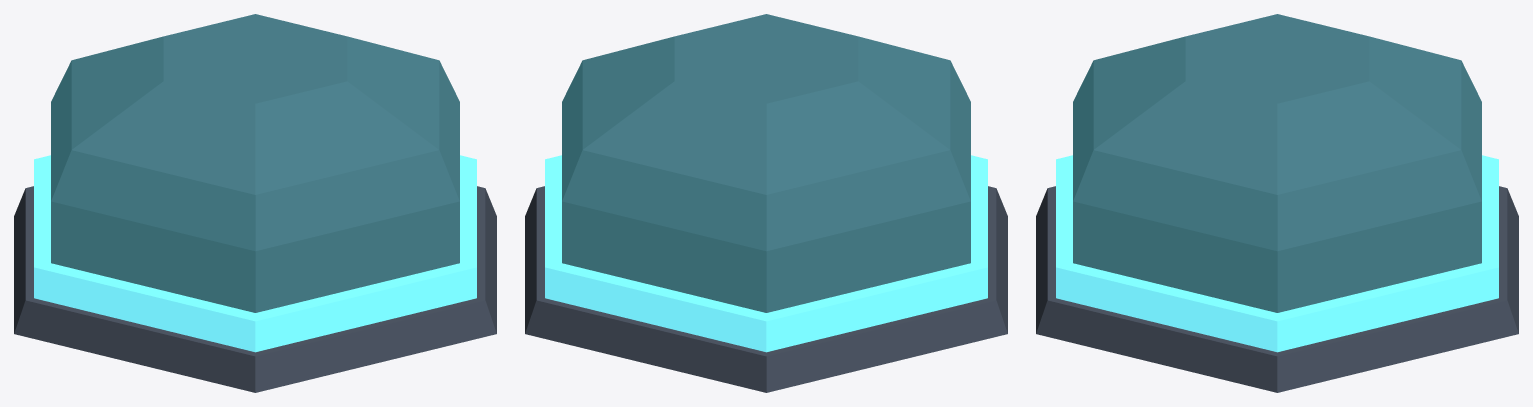
Rendered from hangar_roundGlass.glb.
3 renders of one model, left to right at view 1: azimuth 30°, elevation 25°; view 2: azimuth 150°, elevation 25°; view 3: azimuth 270°, elevation 25°, orthographic.
Parts seen in each view (by area): view 1: hangar_roundGlass; view 2: hangar_roundGlass; view 3: hangar_roundGlass.
Boxes of the visible parts, x1,y1,x2,y2 form: hangar_roundGlass: (14, 14, 496, 392); hangar_roundGlass: (525, 14, 1007, 392); hangar_roundGlass: (1036, 14, 1518, 392).
Size of the model in its own units: 3.27 by 1.4 by 2.83.
